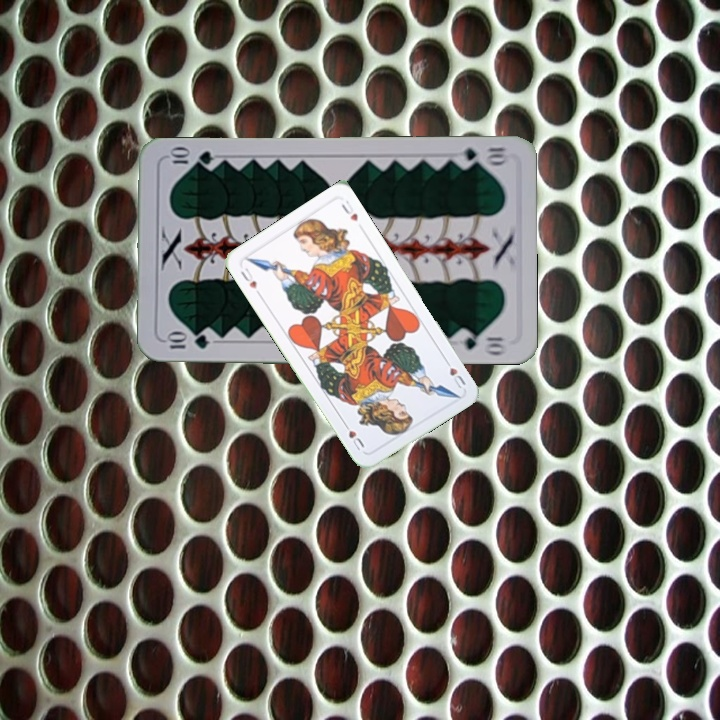G10: (451, 143, 510, 170), (162, 330, 212, 351)
HU: (440, 354, 468, 391), (237, 263, 259, 292)
